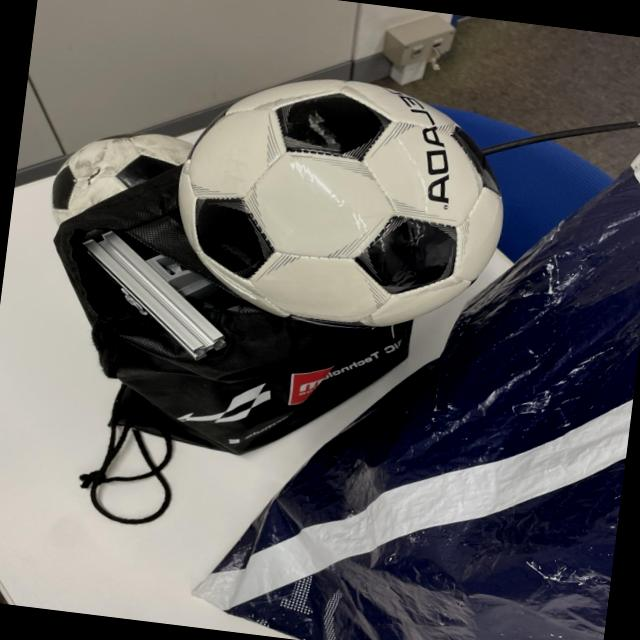Soccer Ball: (165, 64, 513, 342)
